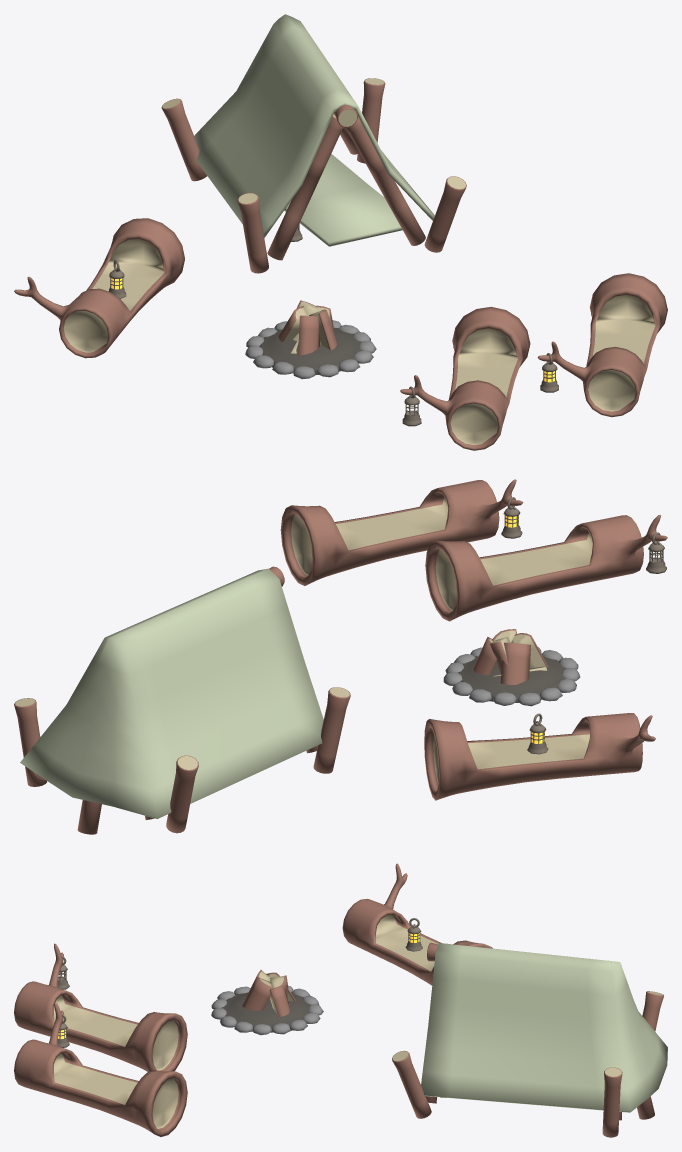
The model's file is Camping_Pack_1.fbx.
3 renders of one model, top to bottom at view 1: azimuth 30°, elevation 25°; view 2: azimuth 150°, elevation 25°; view 3: azimuth 270°, elevation 25°, orthographic. The views are drawn at different scales.
Visible parts, largest first — view 1: Tent_Plane, Tent_Wood, TreeBenchLightOn, TreeBenchLightOff, Bench_1, Fire; view 2: Tent_Plane, TreeBenchLightOff, TreeBenchLightOn, Bench_1, Fire, Tent_Wood, LampOn; view 3: Tent_Plane, TreeBenchLightOn, TreeBenchLightOff, Fire, Bench_1, Tent_Wood.
Part boxes in pixels (box(x1,y1,x2,y2)): Tent_Plane: box(194, 14, 434, 246); Tent_Wood: box(161, 78, 466, 273); TreeBenchLightOn: box(537, 273, 667, 417); TreeBenchLightOff: box(400, 306, 530, 450); Bench_1: box(14, 218, 184, 358); Fire: box(245, 300, 376, 379); Tent_Plane: box(20, 568, 323, 818); TreeBenchLightOff: box(425, 515, 667, 621); TreeBenchLightOn: box(280, 479, 523, 585); Bench_1: box(424, 713, 655, 800); Fire: box(443, 629, 580, 706); Tent_Wood: box(14, 566, 350, 834); LampOn: box(527, 713, 548, 754); Tent_Plane: box(421, 943, 667, 1112); TreeBenchLightOn: box(14, 1002, 187, 1136); TreeBenchLightOff: box(14, 943, 187, 1071); Fire: box(211, 970, 323, 1035); Bench_1: box(342, 863, 492, 985); Tent_Wood: box(392, 942, 663, 1137).
Bounding box in the file's own units: 1514 × 506 × 1959.
